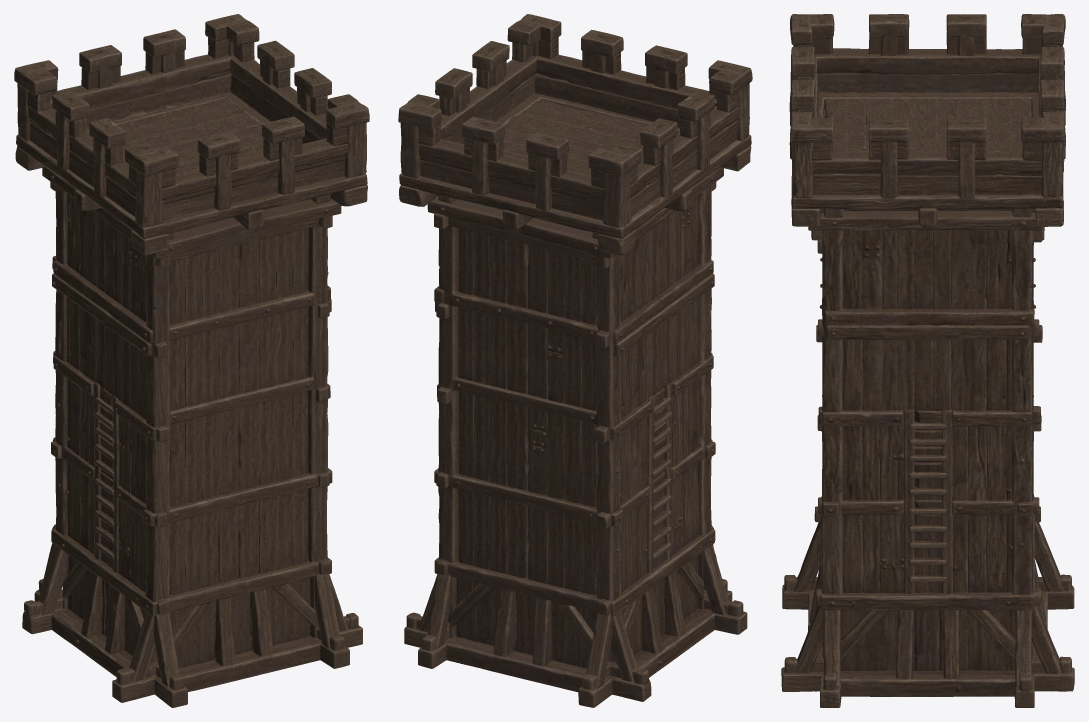
Rendered from tower_large.glb.
The picture shows the model from 3 angles, left to right: view 1: azimuth 30°, elevation 25°; view 2: azimuth 150°, elevation 25°; view 3: azimuth 270°, elevation 25°; orthographic projection. The views are drawn at different scales.
Bounding box in the file's own units: 0.8819 × 1.9 × 0.8781.
1 material, 1 textured.
